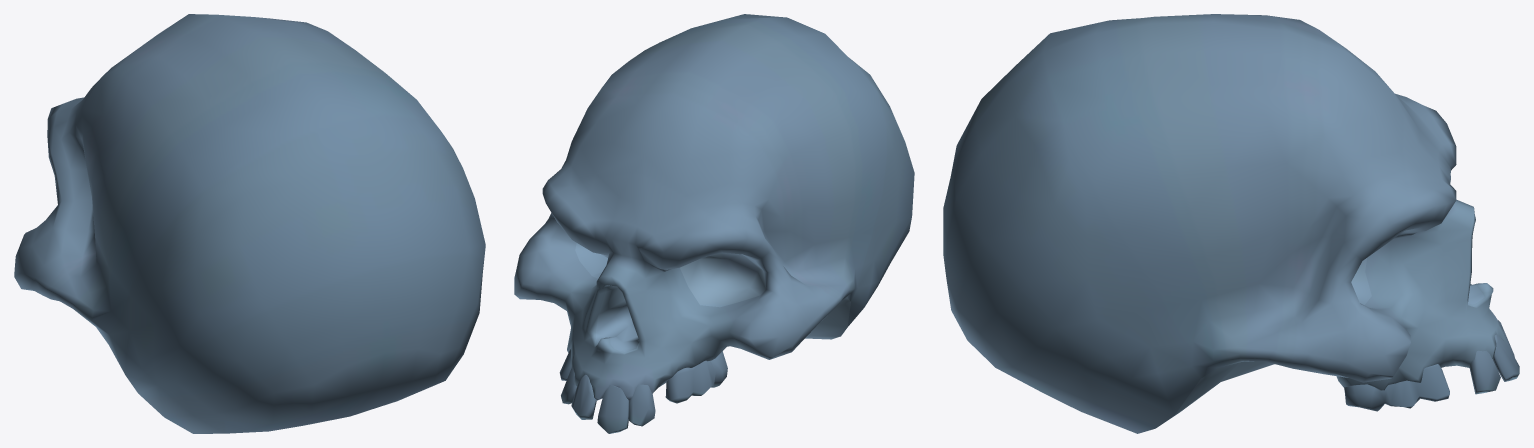
3 renders of one model, left to right at view 1: azimuth 30°, elevation 25°; view 2: azimuth 150°, elevation 25°; view 3: azimuth 270°, elevation 25°, orthographic. The views are drawn at different scales.
Parts seen in each view (by area): view 1: SM_SkySphere_LOD0; view 2: SM_SkySphere_LOD0; view 3: SM_SkySphere_LOD0.
Part boxes in pixels (box(x1,y1,x2,y2)): SM_SkySphere_LOD0: box(14, 14, 485, 433); SM_SkySphere_LOD0: box(514, 14, 914, 433); SM_SkySphere_LOD0: box(943, 14, 1519, 433).
Bounding box in the file's own units: 0.1657 × 0.1619 × 0.2311.
